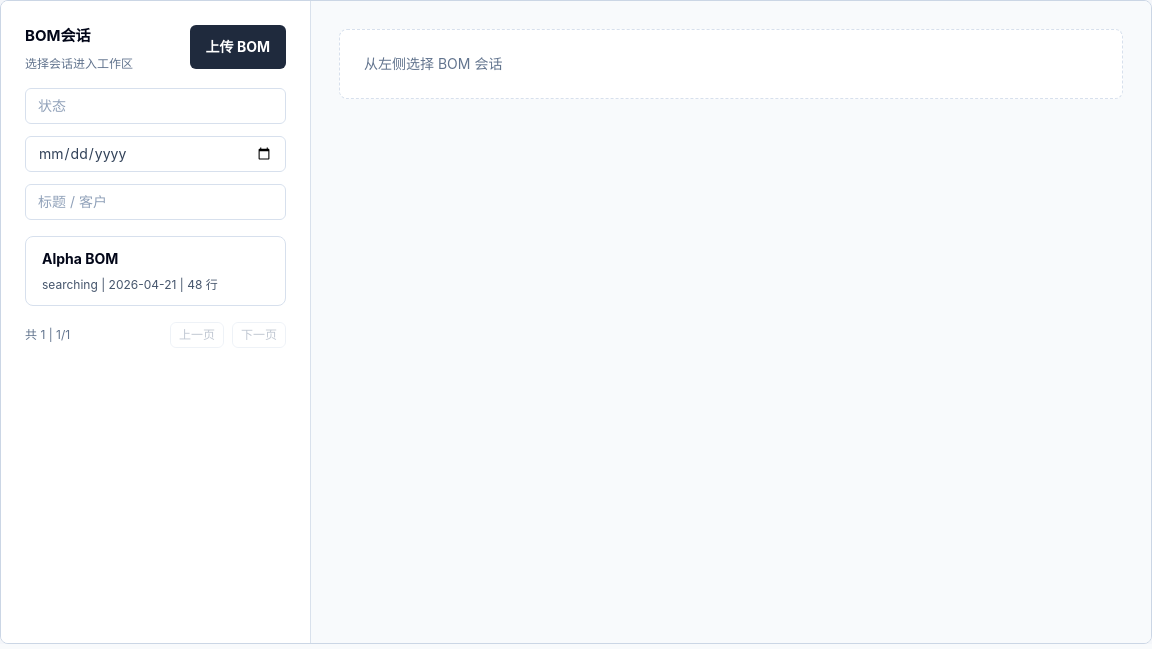
Test: BomWorkbenchPage › opens the gap handling workspace without rendering the full session detail page
Click the button "Alpha BOM searching | 2026-04-21 | 48 行": (80, 258) top-left (25, 236), bottom-right (286, 306)
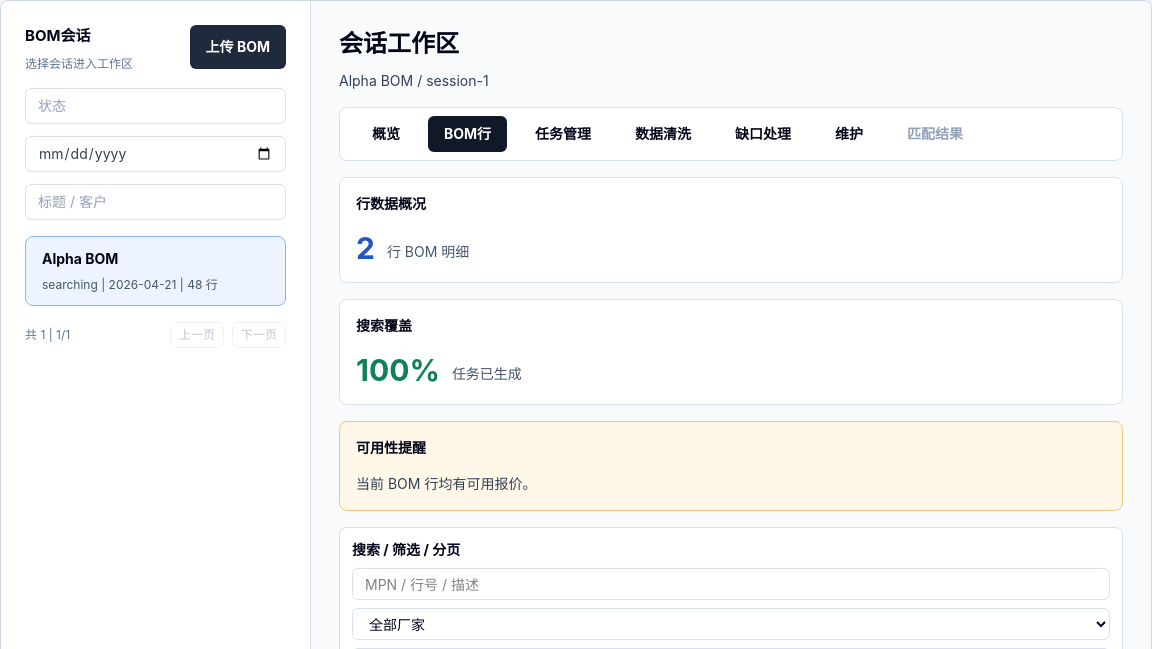
Click the tab "缺口处理": (763, 134) top-left (719, 116), bottom-right (807, 152)
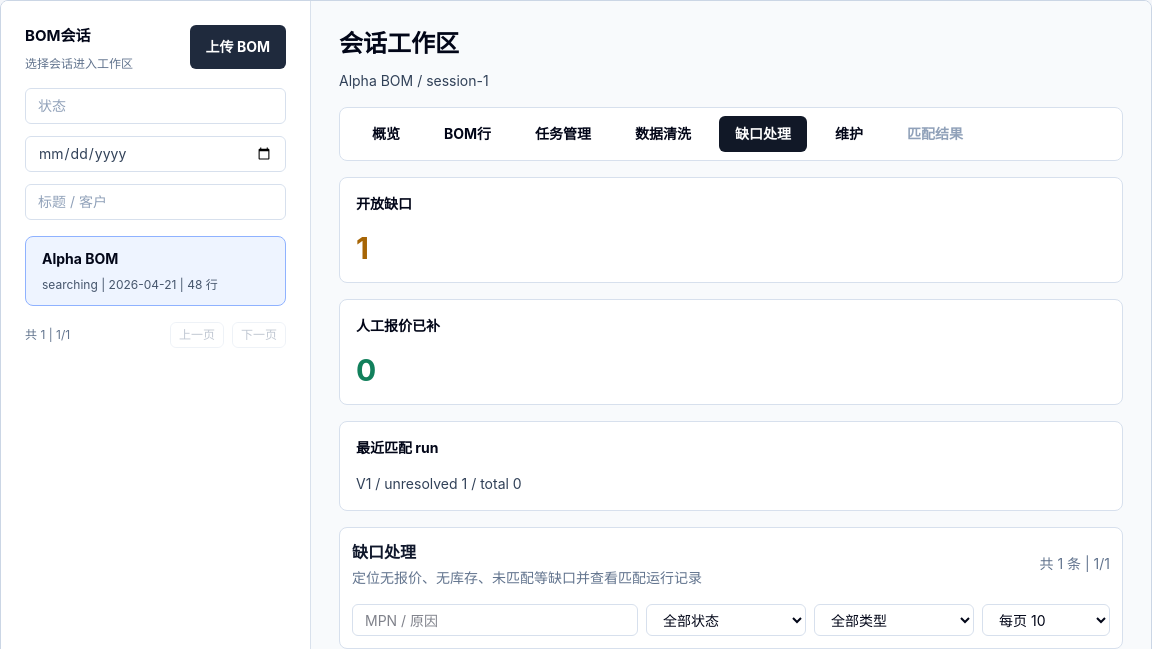
Check: the field with placeholder "MPN / 原因" is shown, box top-left (352, 604), bottom-right (638, 636)
